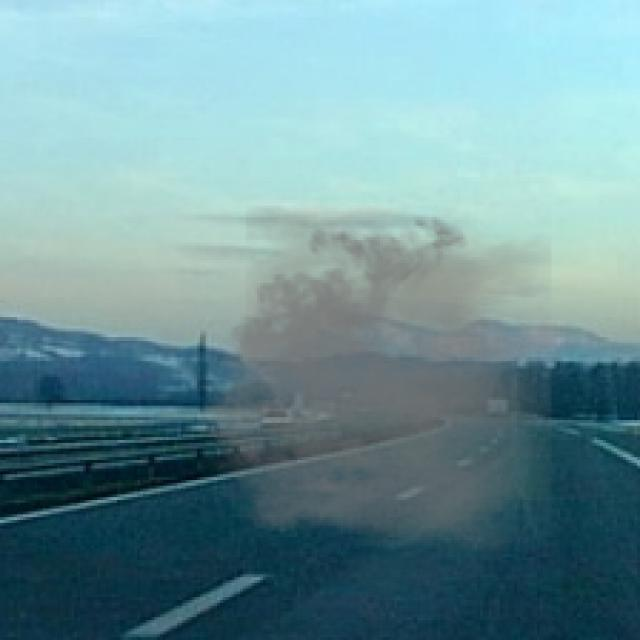smoke: (186, 206, 551, 551)
